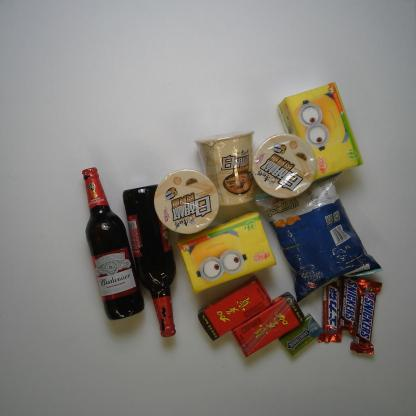Alcohol: (82, 167, 145, 321), (122, 184, 176, 338)
Chocolate: (350, 277, 382, 355), (316, 269, 342, 343), (340, 266, 364, 336)
Drink: (197, 274, 273, 342), (231, 291, 306, 358)
Gum: (278, 313, 324, 357)
Instant Noodles: (247, 130, 321, 202), (194, 130, 260, 208), (153, 166, 222, 234)
Puffed Food: (252, 170, 383, 304)
Tissue: (277, 81, 365, 183), (175, 211, 278, 295)
